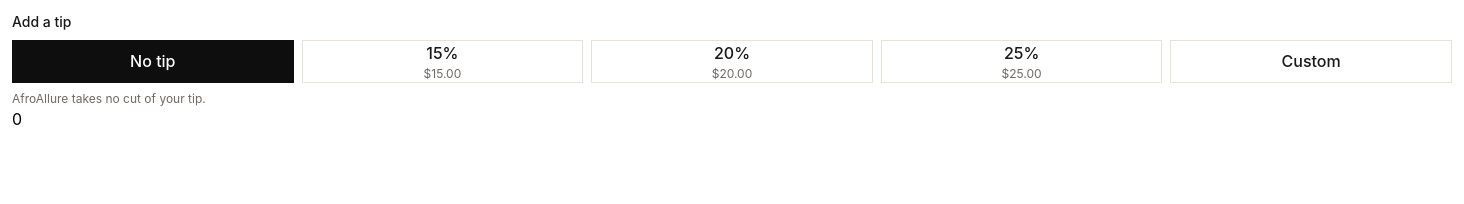
TipPicker › accepts a custom amount in dollars
Click the button "Custom": (1311, 61) x1=1170 y1=40 x2=1452 y2=83
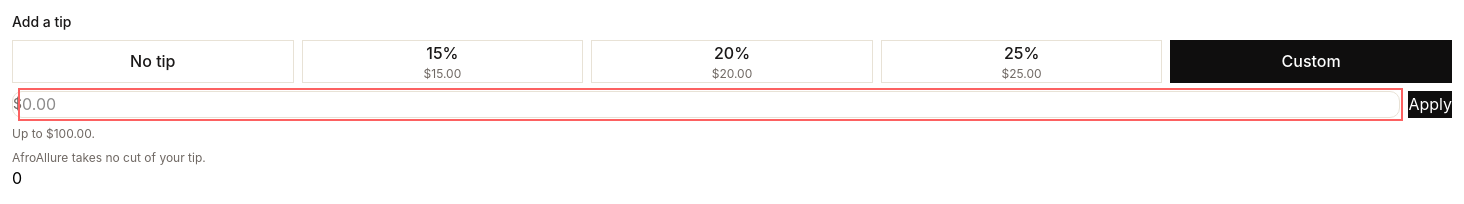
In the field named "Custom tip in dollars": (711, 104) x1=22 y1=92 x2=1399 y2=117, type "12.50"
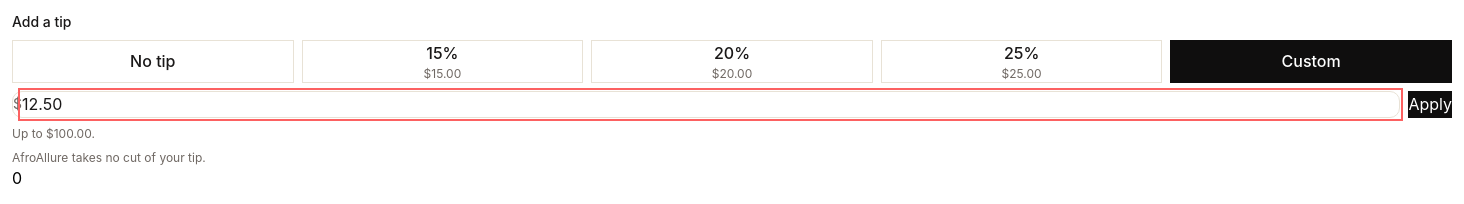
Click the button "Apply": (1430, 104) x1=1408 y1=91 x2=1452 y2=118
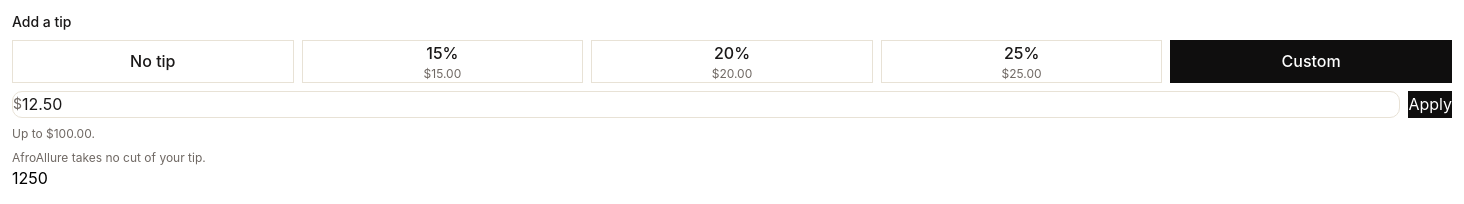
Now the text with test id "tip" reads "1250", box x1=12 y1=168 x2=48 y2=188
